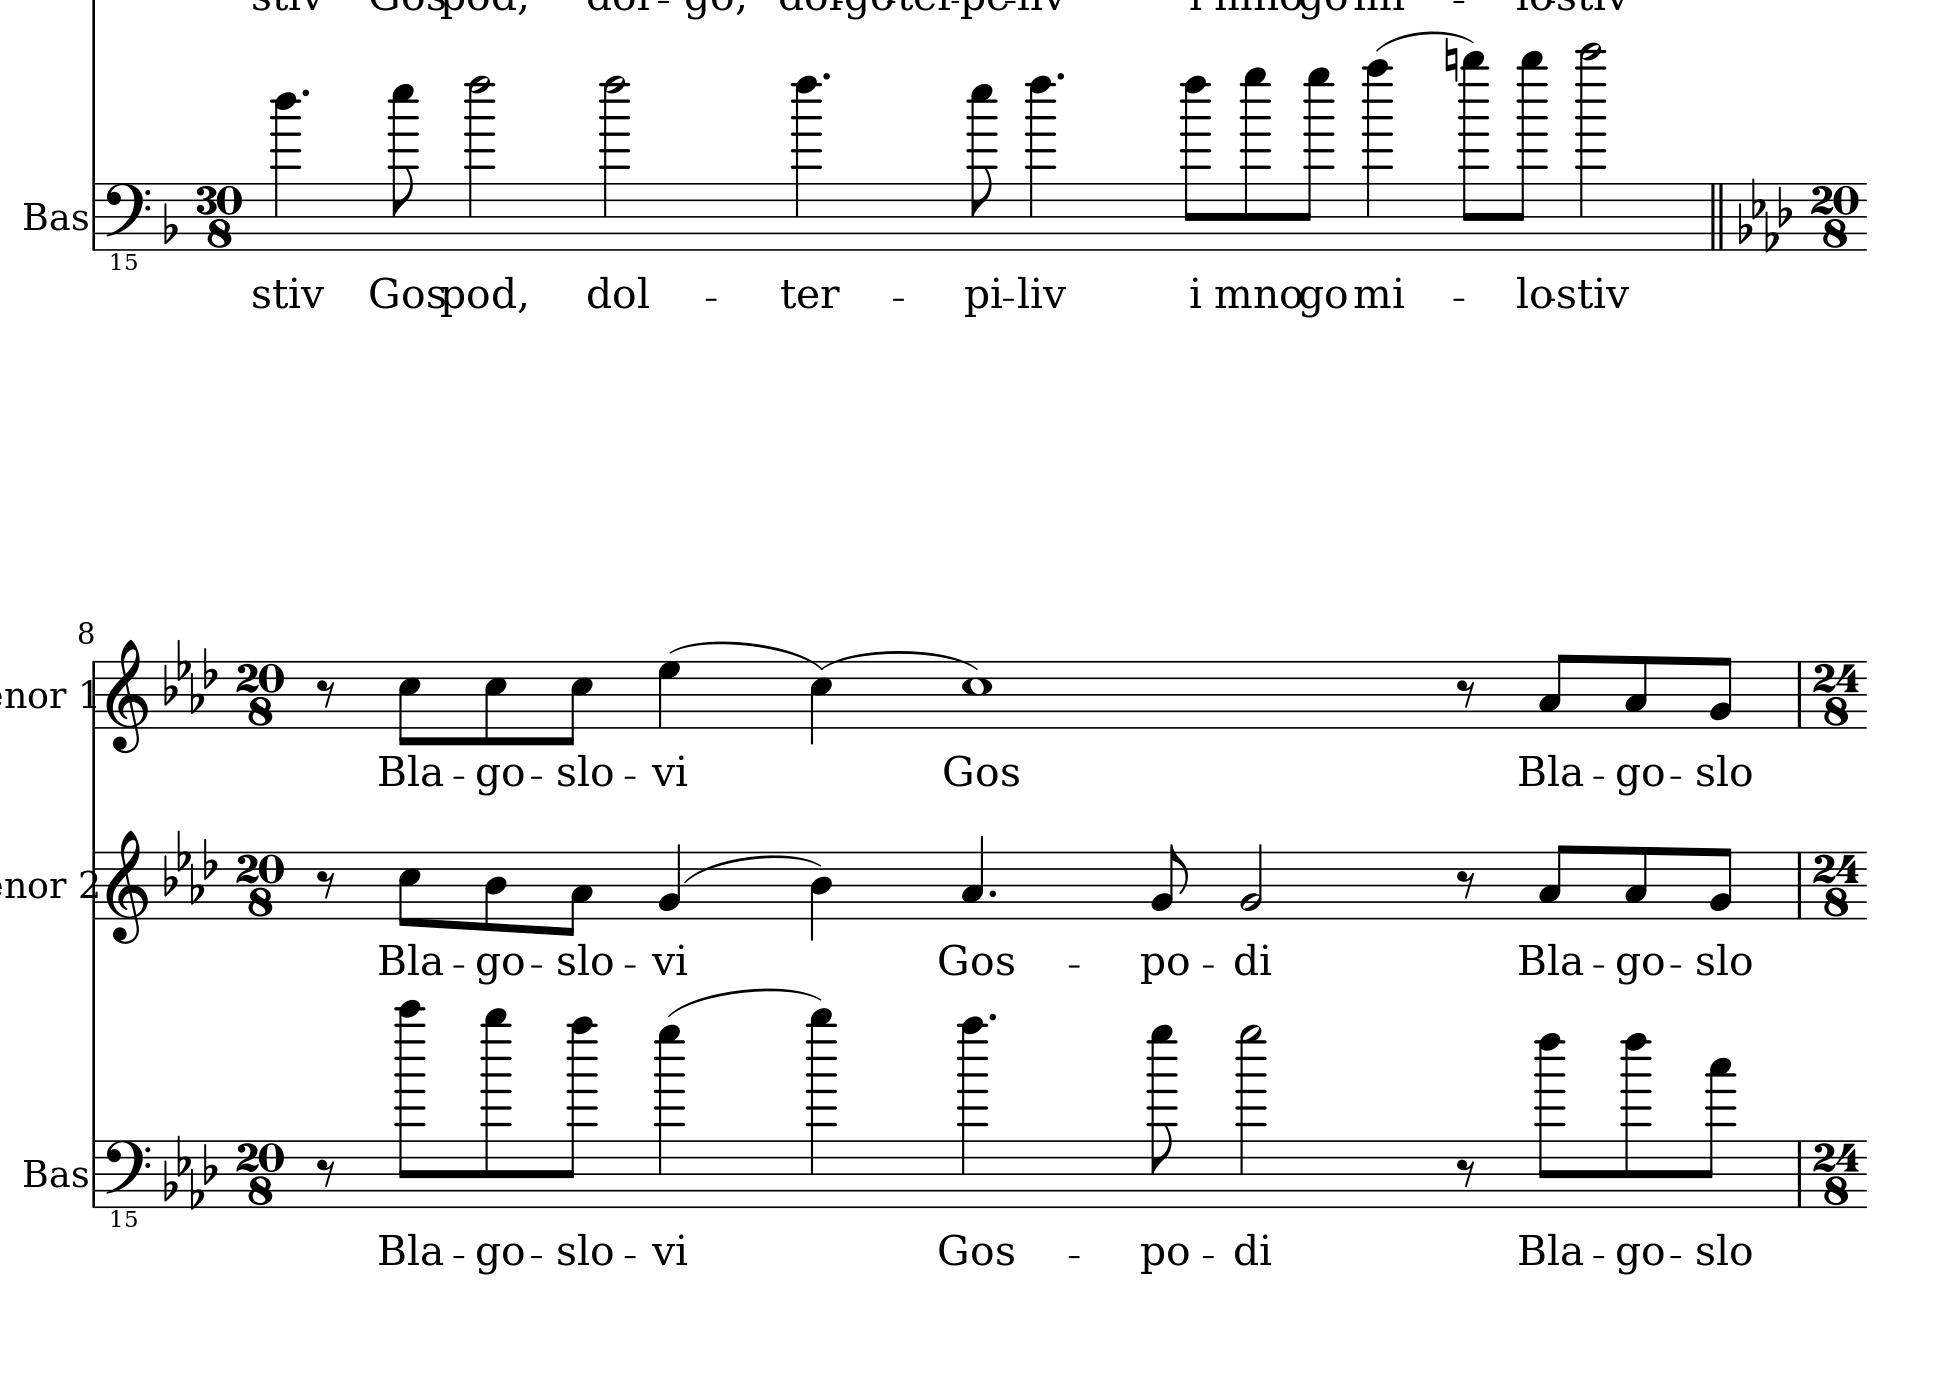0: (258, 850, 286, 886), (1833, 181, 1861, 214), (258, 1138, 285, 1173), (259, 658, 285, 694), (217, 181, 243, 214), (235, 1138, 259, 1171)
1_5: (961, 658, 994, 730)
2: (234, 658, 259, 694), (235, 849, 259, 886), (1809, 181, 1834, 216), (1812, 660, 1837, 693), (1812, 850, 1837, 883), (1812, 1140, 1837, 1171)
2_2: (1239, 841, 1264, 919)
2_20: (463, 75, 496, 252), (598, 73, 631, 250)
3: (193, 183, 217, 214)
4: (1836, 1140, 1863, 1173), (1836, 850, 1861, 883), (1836, 661, 1861, 693)
4_18: (270, 91, 301, 252)
4_2: (657, 841, 682, 921)
4_20: (792, 73, 823, 250), (1026, 75, 1057, 252)
4_3: (960, 832, 985, 919)
4_4: (808, 849, 834, 942)
4_5: (808, 658, 835, 745)
4_7: (655, 658, 682, 730)
8: (1821, 883, 1851, 919), (1821, 1171, 1851, 1207), (1821, 214, 1849, 250), (1822, 693, 1851, 727), (205, 214, 232, 250), (247, 883, 274, 919), (247, 1171, 274, 1207), (247, 693, 274, 727), (76, 616, 94, 646)
8_19: (966, 81, 1000, 252), (388, 82, 421, 253)
8_2: (1150, 841, 1188, 919), (1708, 655, 1734, 730), (1708, 846, 1734, 921)
8_20: (1182, 75, 1213, 252)
8_3: (559, 849, 594, 937), (1537, 652, 1572, 730), (1537, 843, 1572, 921), (1623, 652, 1650, 730), (1623, 844, 1650, 921)
8_4: (481, 850, 508, 934)
8_5: (561, 658, 594, 747), (481, 658, 508, 748), (396, 658, 423, 747), (396, 849, 421, 928)
A_F: (163, 636, 220, 715), (163, 826, 220, 903), (162, 1134, 217, 1209), (1735, 178, 1792, 250)
Bass: (21, 1153, 90, 1191), (21, 199, 88, 232)
Cclef: (1812, 181, 1860, 252), (1812, 850, 1860, 921), (1812, 660, 1857, 730)
DLower_Fclef: (100, 1137, 151, 1234), (100, 180, 150, 274)
Double_barline: (1707, 181, 1728, 250)
Flat: (160, 199, 178, 244)
Gclef: (103, 636, 148, 754), (105, 828, 148, 945)
Natural: (1441, 34, 1461, 84)
Rests8: (312, 1156, 337, 1188), (1455, 1156, 1479, 1188), (1455, 676, 1477, 709), (313, 868, 336, 900), (1455, 868, 1477, 900), (315, 678, 336, 709)
Single_barline: (85, 850, 103, 919), (1791, 1141, 1809, 1207), (87, 181, 103, 250), (87, 658, 102, 730), (1792, 661, 1807, 727), (1792, 852, 1806, 919), (88, 1138, 100, 1207)
Slur: (670, 640, 820, 676), (667, 985, 819, 1018), (684, 852, 817, 880), (820, 648, 979, 670), (1377, 30, 1474, 51)
TimeSig: (238, 658, 286, 727), (238, 850, 286, 919), (238, 1138, 286, 1207), (1813, 1138, 1858, 1207), (196, 181, 241, 247)
dot: (298, 85, 312, 100), (819, 69, 832, 82), (987, 1009, 999, 1024), (1056, 67, 1068, 82), (987, 886, 999, 898)
